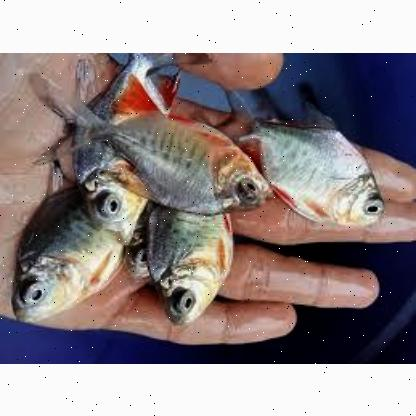ikan-pacu: (103, 107, 269, 218), (244, 110, 388, 230), (16, 174, 126, 318), (138, 196, 235, 322)
